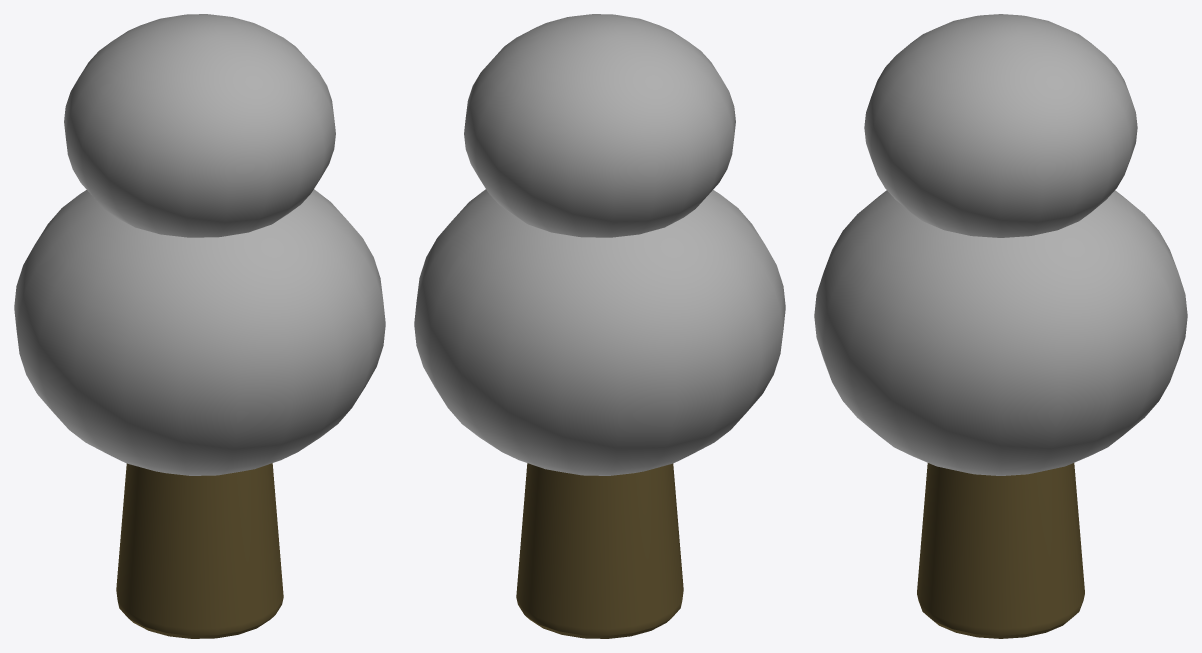
The model's file is Tree2.fbx.
The picture shows the model from 3 angles, left to right: view 1: azimuth 30°, elevation 25°; view 2: azimuth 150°, elevation 25°; view 3: azimuth 270°, elevation 25°; orthographic projection.
Visible parts, largest first — view 1: Tree2; view 2: Tree2; view 3: Tree2.
Part boxes in pixels (<box>): Tree2: <box>14,14,385,638</box>; Tree2: <box>414,14,785,638</box>; Tree2: <box>814,14,1187,638</box>.
Size of the model in its own units: 0.0152 by 0.026 by 0.0152.
